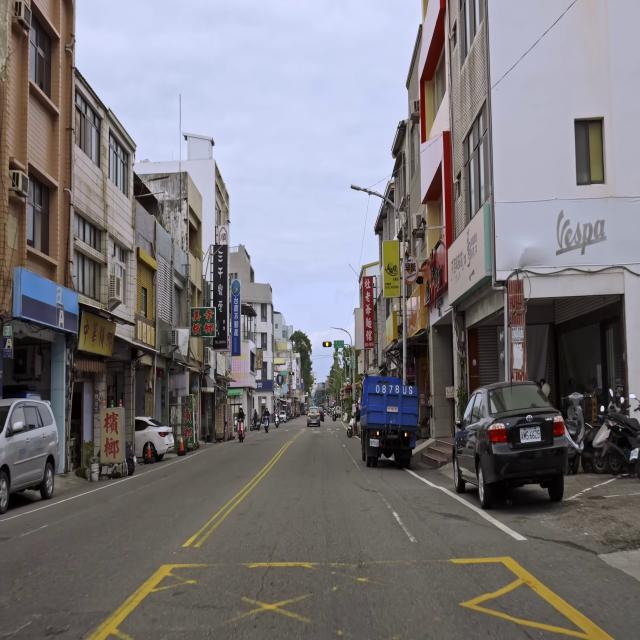yellow light: (322, 341, 332, 348), (288, 371, 294, 376)
